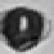correct: (3, 8, 46, 51)
